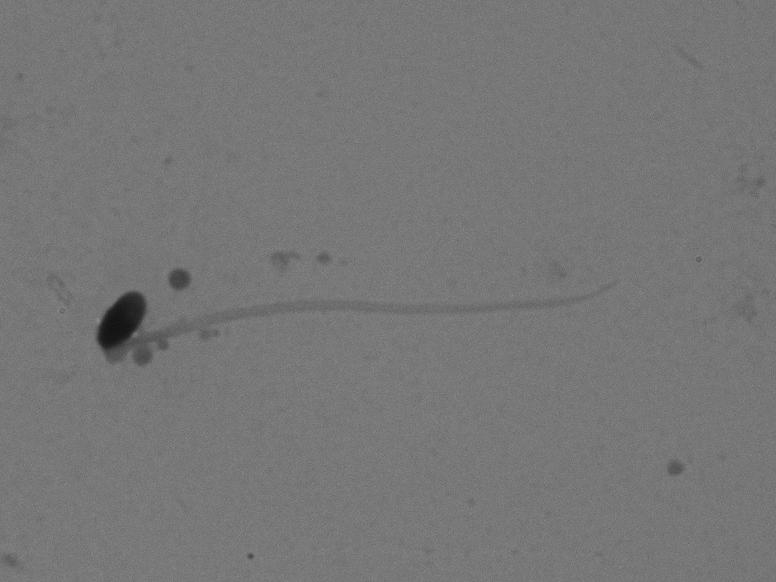Abnormal: (74, 231, 644, 386)
